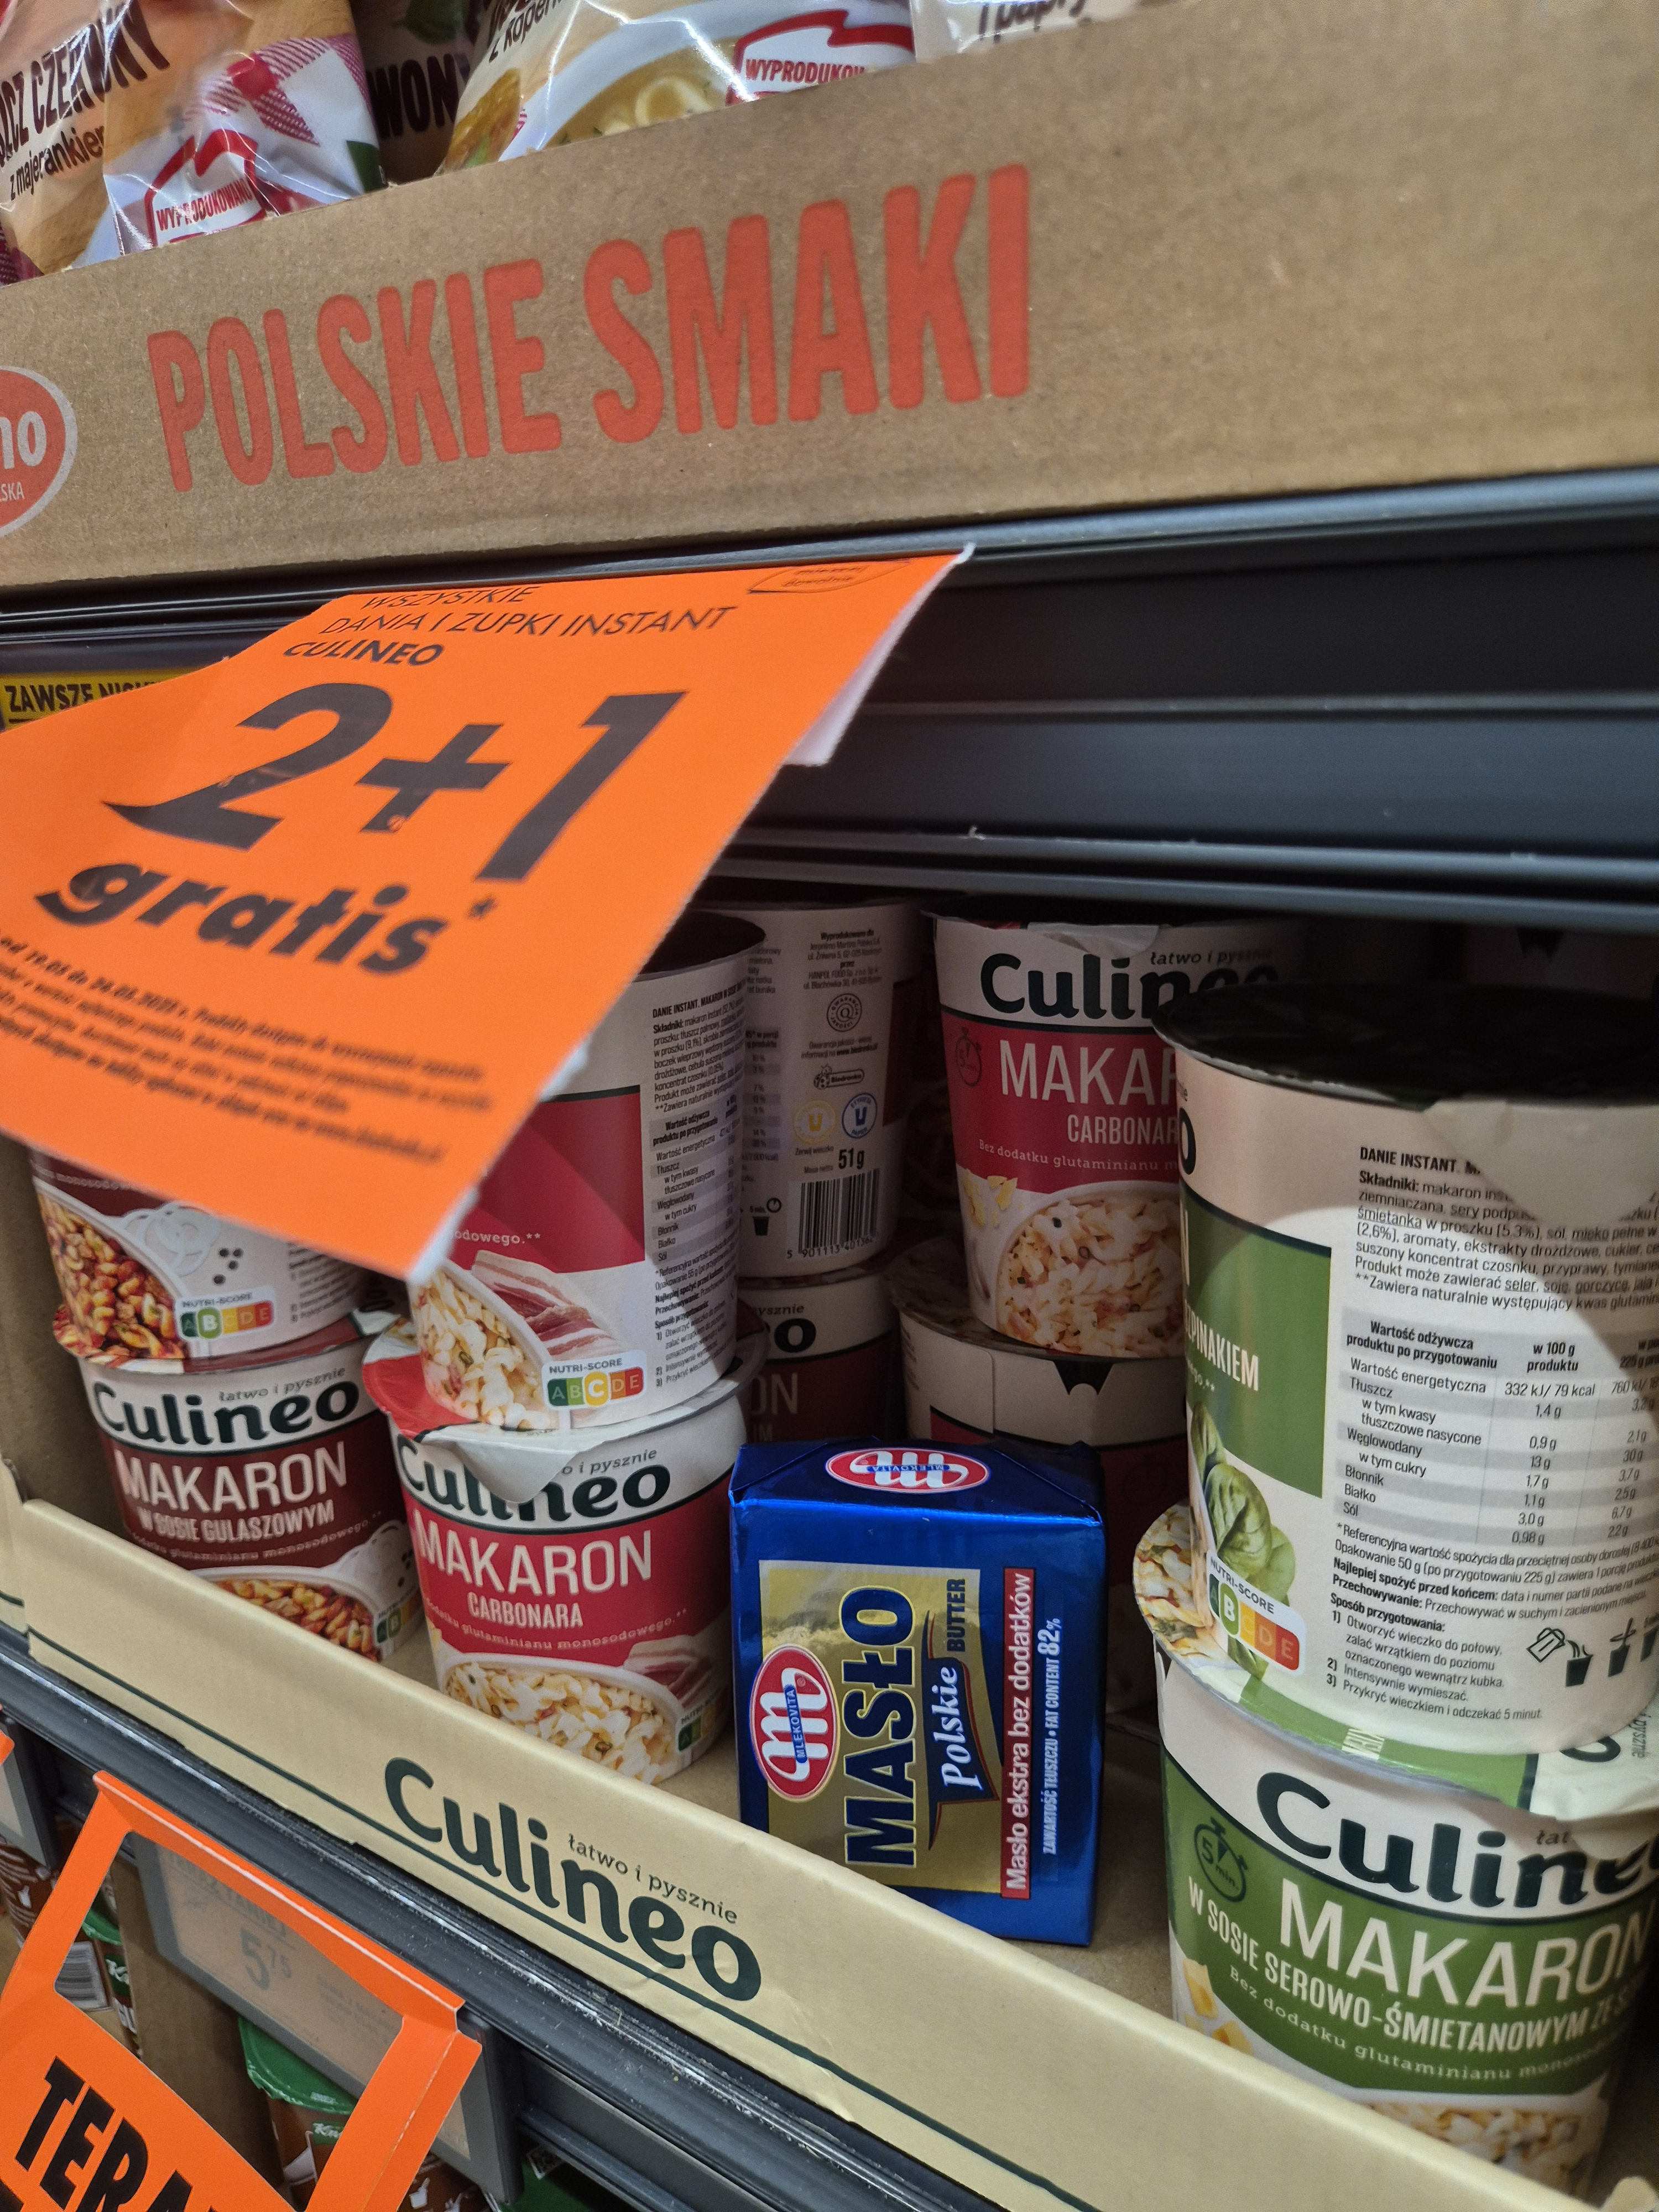Butter: (734, 1418, 1138, 1975)
